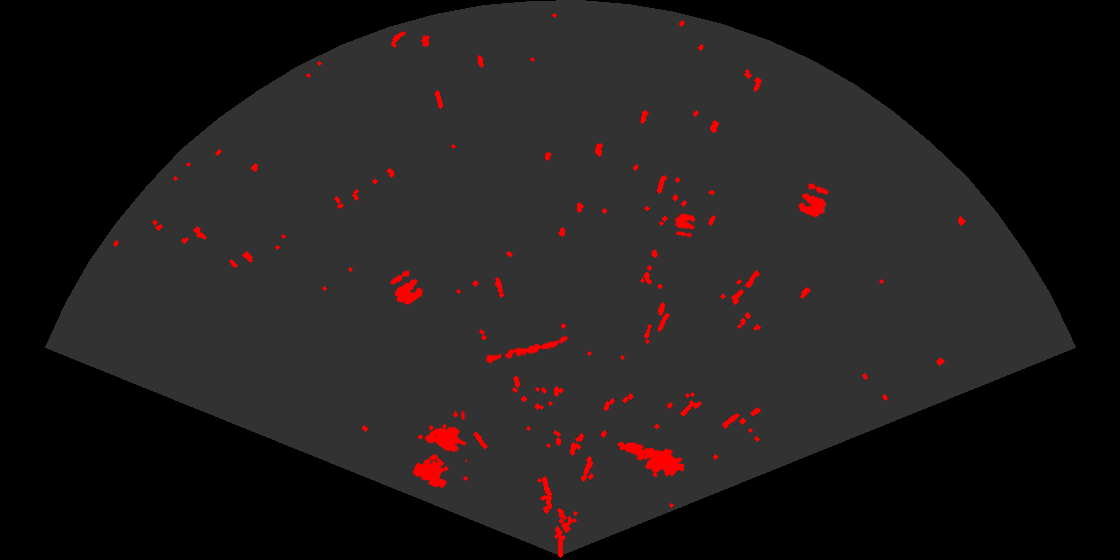ball: (389, 269, 424, 306), (797, 182, 830, 219), (673, 212, 698, 239)
cage: (411, 411, 467, 490)
chain: (483, 334, 570, 366)
frogman: (616, 440, 684, 479)
